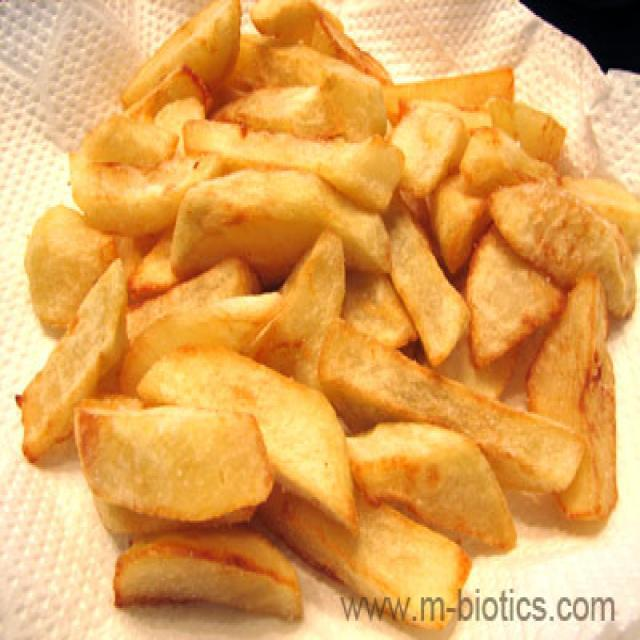French Fries: (33, 0, 633, 595)
